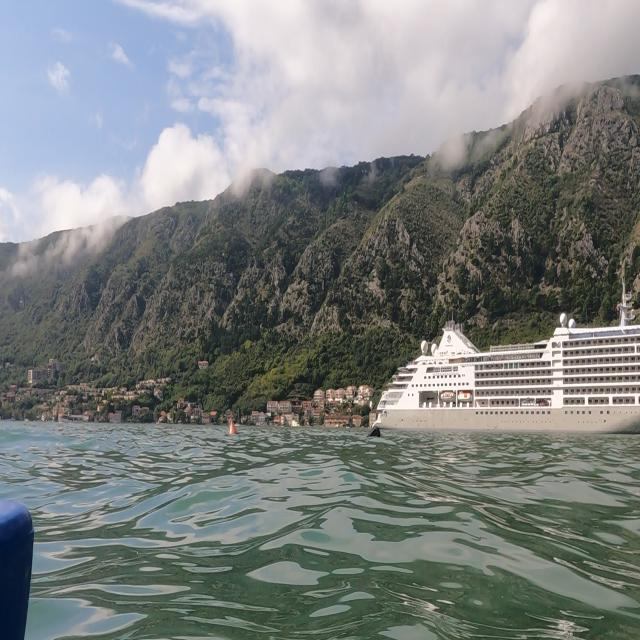boat: (366, 275, 638, 439)
buoy: (359, 426, 388, 450), (223, 414, 243, 442)
